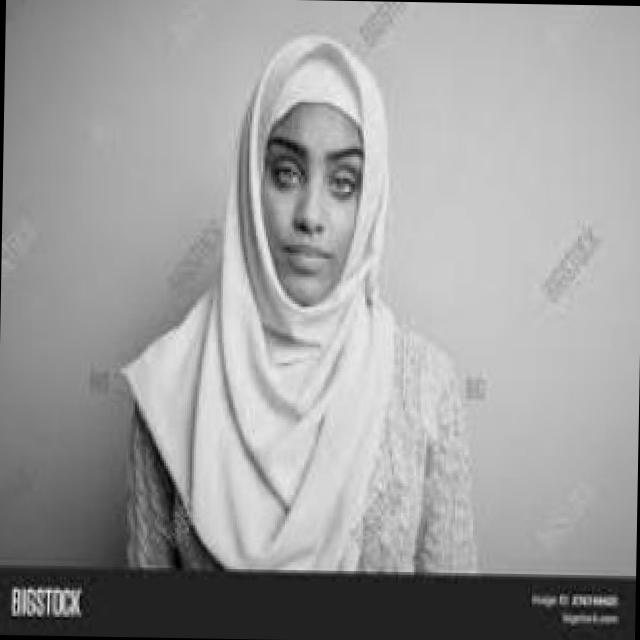Focused: (260, 106, 370, 304)
